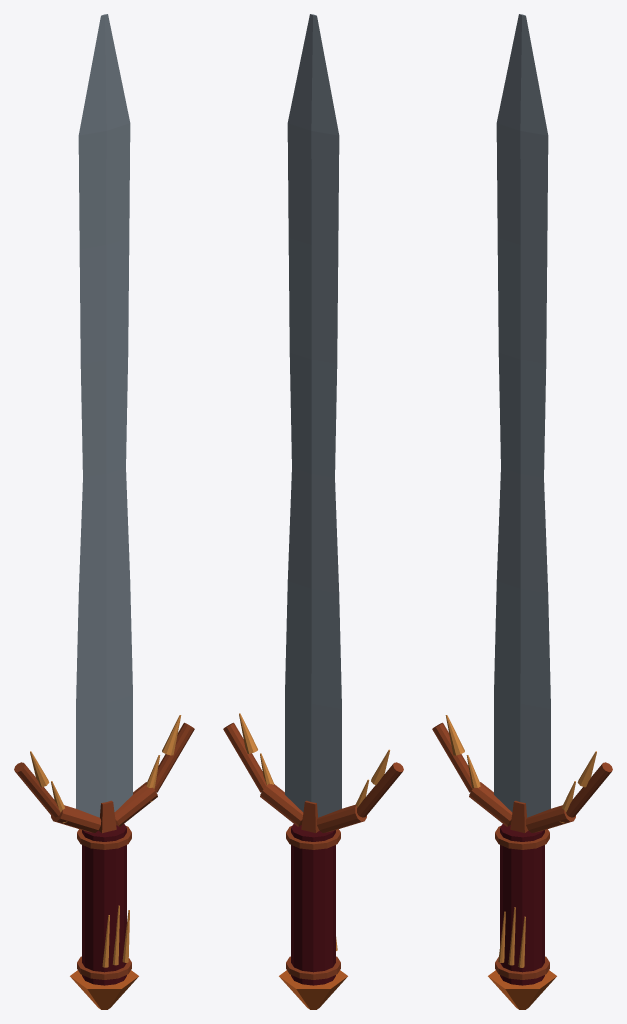
The model's file is pyrakanth.glb.
The picture shows the model from 3 angles, left to right: view 1: azimuth 30°, elevation 25°; view 2: azimuth 150°, elevation 25°; view 3: azimuth 330°, elevation 25°; orthographic projection.
Parts seen in each view (by area): view 1: Blade, Grip, Pommel, GuardArm00, GuardArm03, GuardArm01, GuardArm02, GripCollar01, GripCollar00, Guard; view 2: Blade, Grip, Pommel, GuardArm01, GuardArm00, GuardArm03, GuardArm02, GripCollar01, GripCollar00, Guard; view 3: Blade, Grip, Pommel, GuardArm02, GuardArm01, GuardArm03, GuardArm00, GripCollar01, GripCollar00, Guard.
Boxes of the visible parts, <box> form: Blade: <box>76,14,132,817</box>; Grip: <box>82,824,126,985</box>; Pommel: <box>70,970,138,1009</box>; GuardArm00: <box>114,782,157,826</box>; GuardArm03: <box>14,762,60,817</box>; GuardArm01: <box>154,722,194,792</box>; GuardArm02: <box>51,805,101,832</box>; GripCollar01: <box>77,956,131,979</box>; GripCollar00: <box>77,826,131,849</box>; Guard: <box>98,800,116,833</box>; Blade: <box>285,14,341,817</box>; Grip: <box>291,824,335,985</box>; Pommel: <box>279,970,347,1009</box>; GuardArm01: <box>223,722,266,792</box>; GuardArm00: <box>260,784,303,826</box>; GuardArm03: <box>357,762,403,817</box>; GuardArm02: <box>316,804,366,832</box>; GripCollar01: <box>286,956,340,979</box>; GripCollar00: <box>286,826,340,849</box>; Guard: <box>301,800,319,833</box>; Blade: <box>494,14,550,817</box>; Grip: <box>500,824,544,985</box>; Pommel: <box>488,970,556,1009</box>; GuardArm02: <box>469,782,512,826</box>; GuardArm01: <box>566,762,612,817</box>; GuardArm03: <box>432,722,472,792</box>; GuardArm00: <box>525,805,575,832</box>; GripCollar01: <box>495,956,549,979</box>; GripCollar00: <box>495,826,549,849</box>; Guard: <box>510,800,528,833</box>.
Size of the model in its own units: 0.1957 by 1.04 by 0.066.
